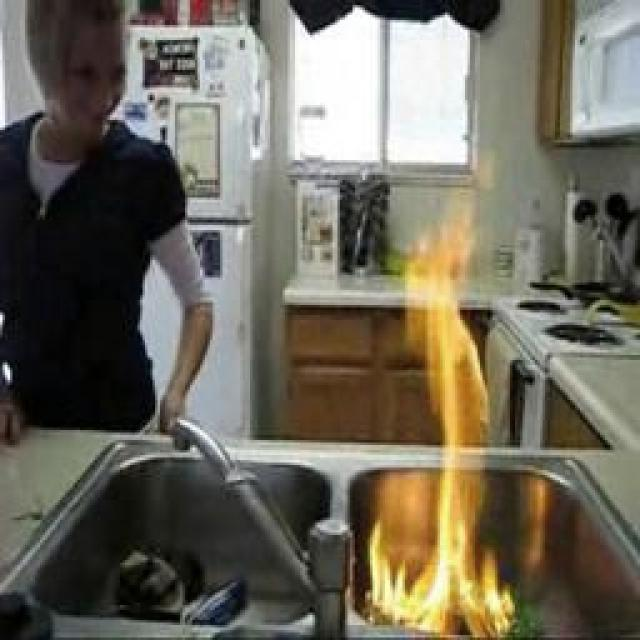Fire: (368, 171, 512, 640)
